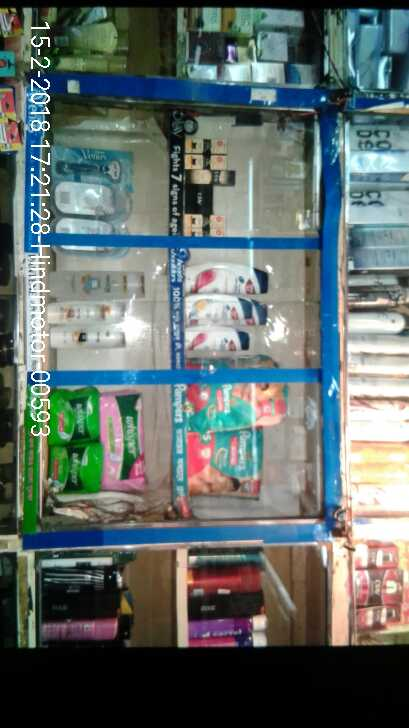venus: (49, 216, 134, 254), (52, 144, 131, 183), (52, 183, 134, 216)
